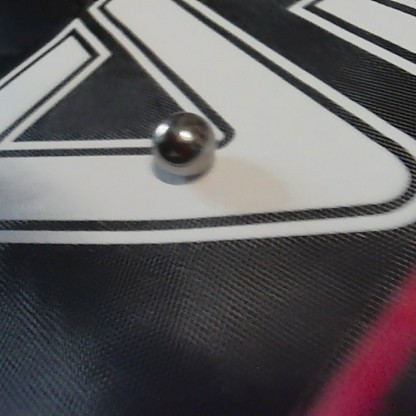ironball: (150, 112, 213, 177)
